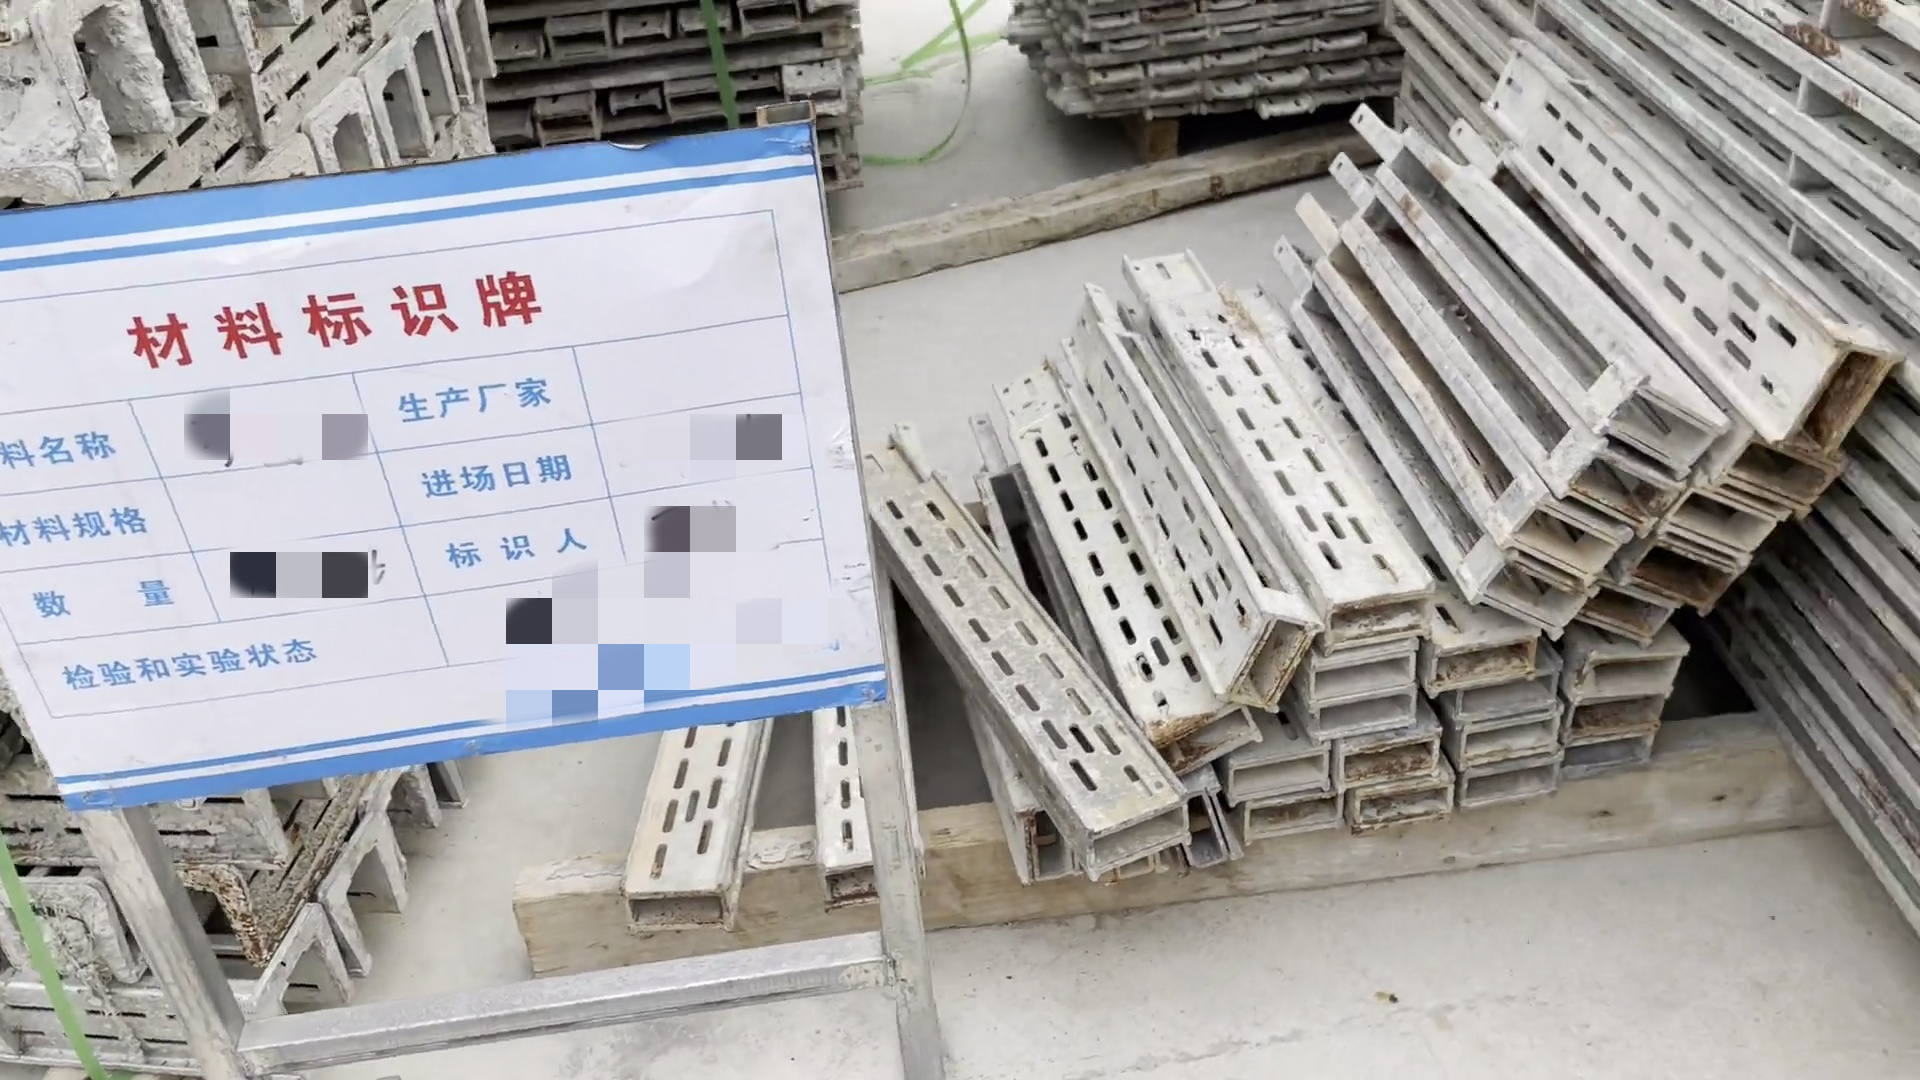slogan: (1, 99, 984, 825)
